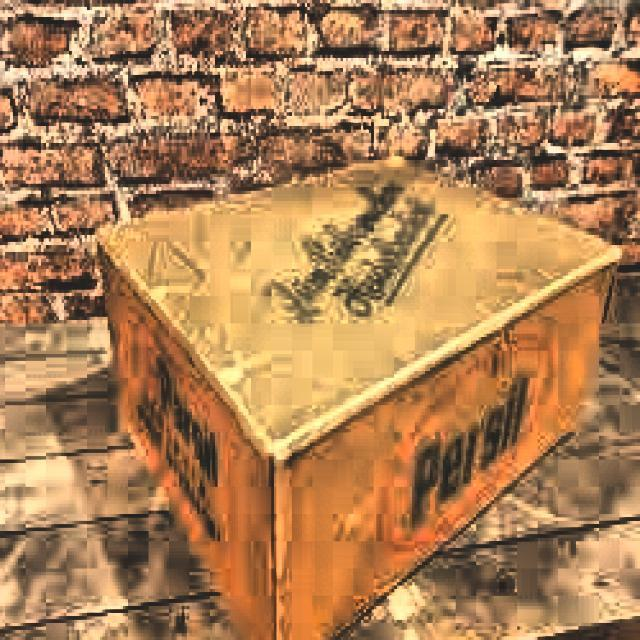cardboard: (92, 150, 622, 640)
